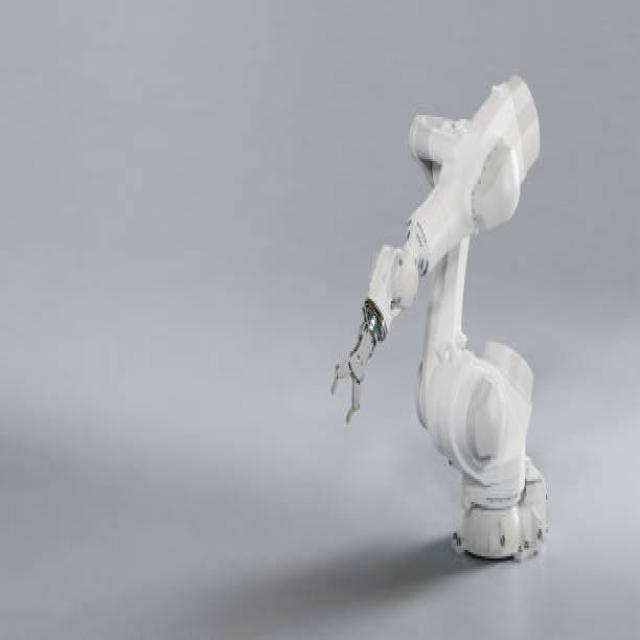Robotic-arm: (331, 66, 559, 568)
